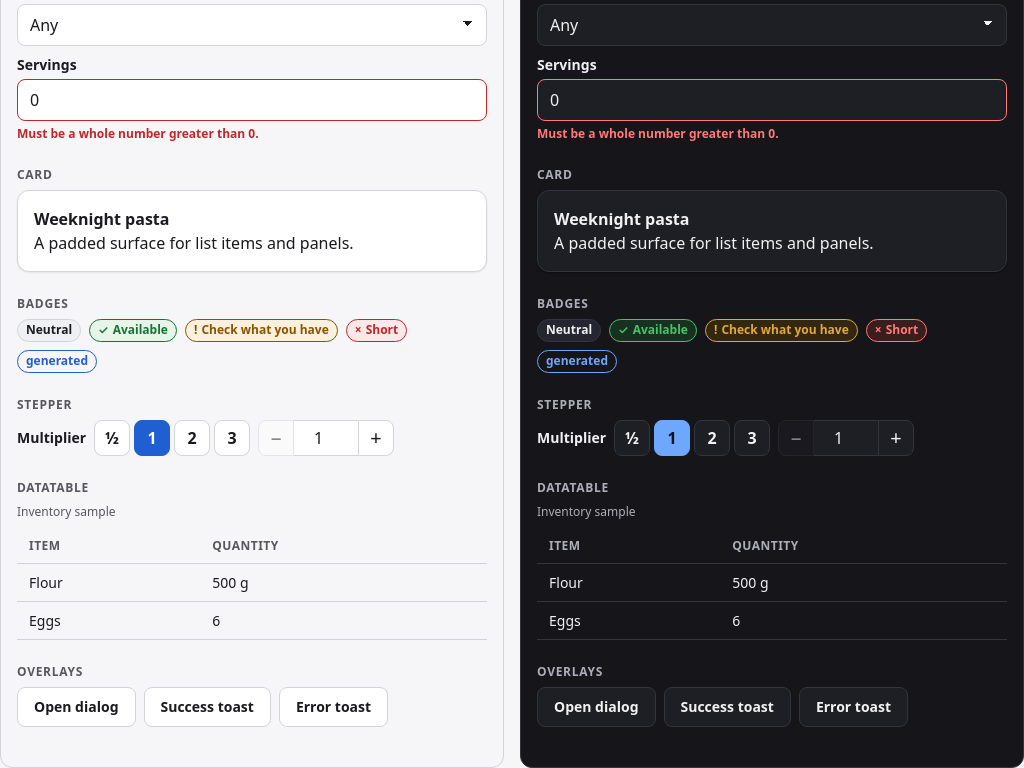
ComponentsDemo › opens the demo dialog inside the originating themed pane
(page scrolled)
Click the 2nd button "Open dialog": click(596, 707) [537,687,656,727]
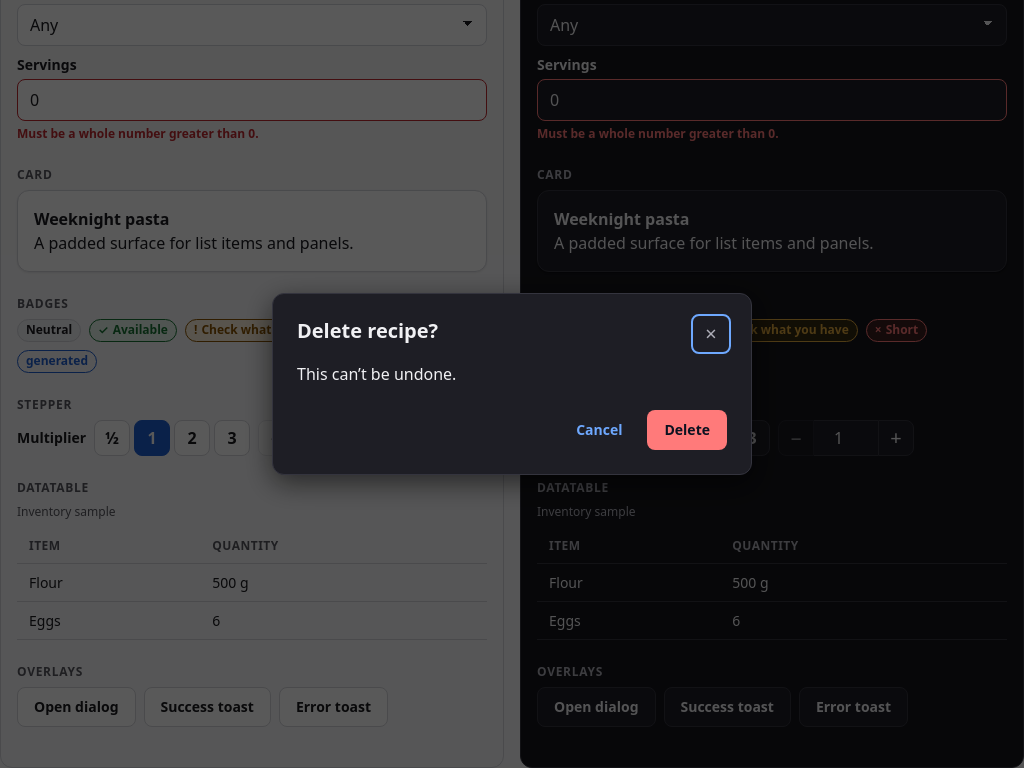
Now the dialog "Delete recipe?" is shown, box [272,293,752,475]
